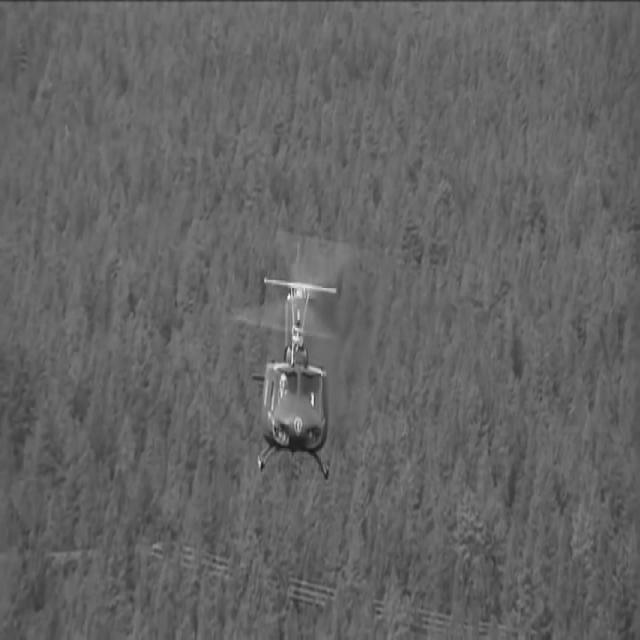helikopter: (220, 266, 372, 496)
